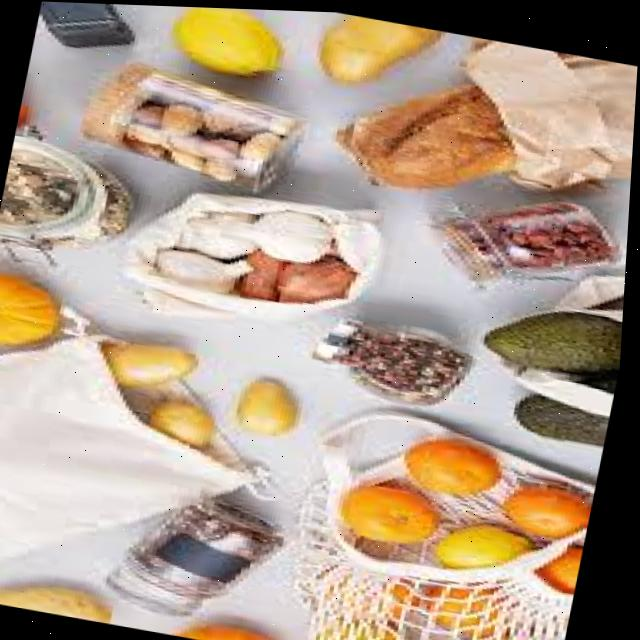Wet: (367, 448, 597, 640), (220, 98, 437, 277), (327, 66, 521, 207), (335, 354, 487, 463), (219, 307, 324, 442), (179, 308, 264, 424), (290, 319, 384, 395), (373, 310, 452, 364), (124, 183, 199, 237), (258, 13, 323, 59), (161, 149, 221, 194), (168, 5, 239, 41), (310, 29, 370, 71), (145, 526, 205, 567), (18, 114, 78, 151), (90, 3, 161, 24)
